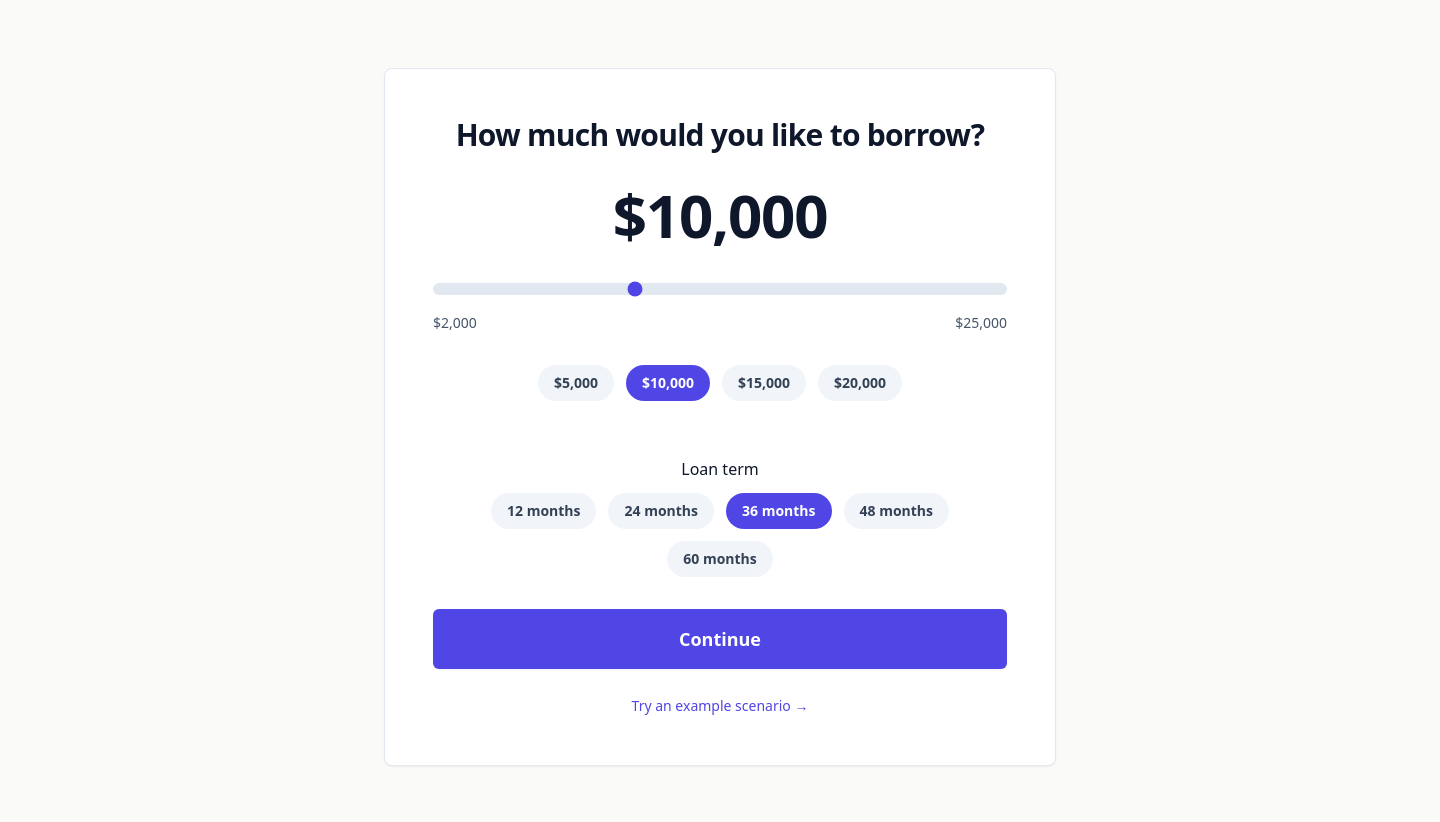
it: LoanWizard › State Management › preserves loanRequest state across steps
Set loan amount to $15,000 and term to 48 months
Set the slider to "15000": (756, 289) [433,283,1007,295]
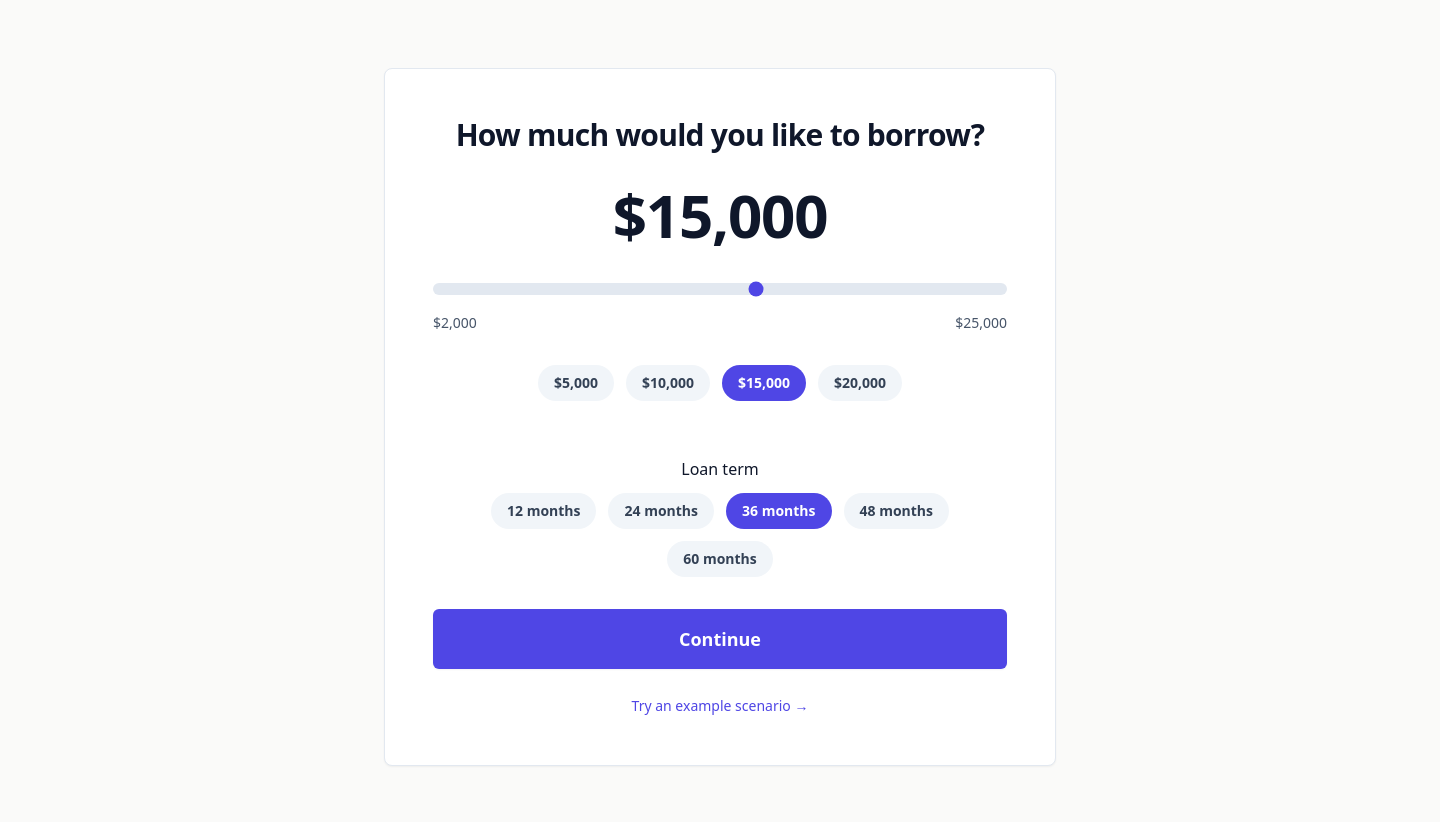
Click the button "48 months": click(896, 511) [844,493,949,529]
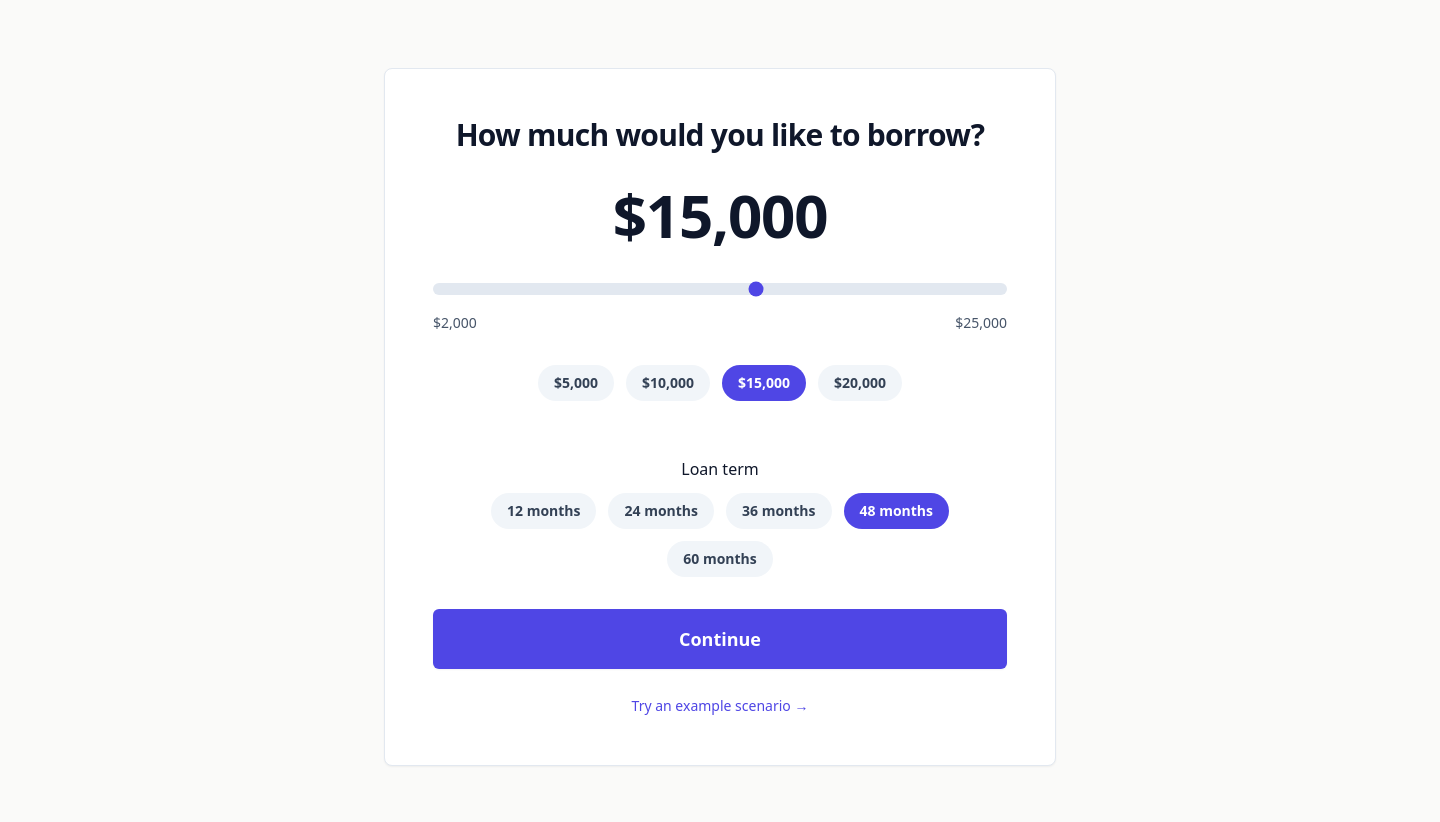
Click the button "Continue": click(720, 639) [433,609,1007,669]
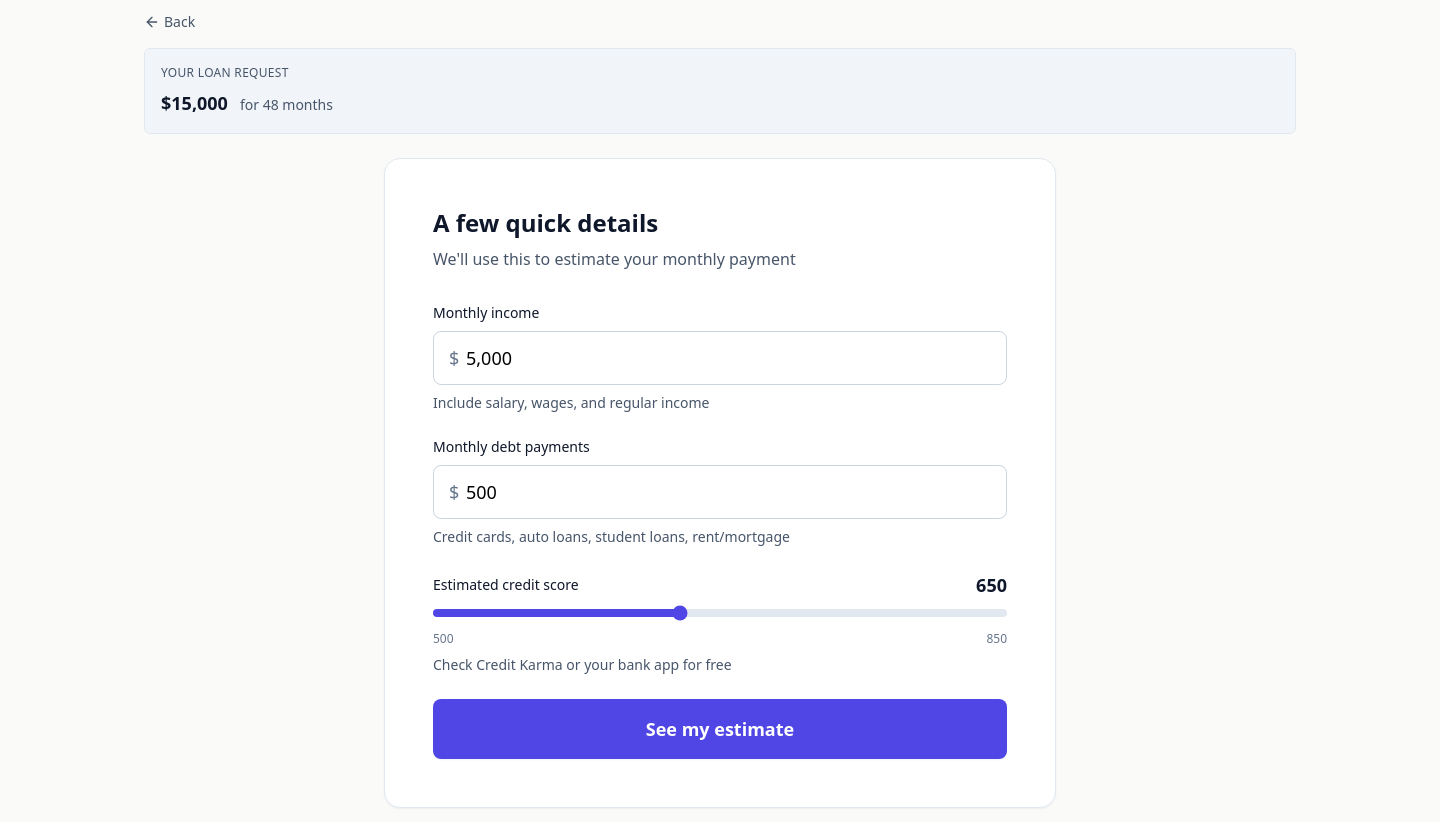
Expected: the text "$15,000" is shown, [161,89,228,117]
Go to estimate step
Click the button "See my estimate": click(720, 729) [433,699,1007,759]
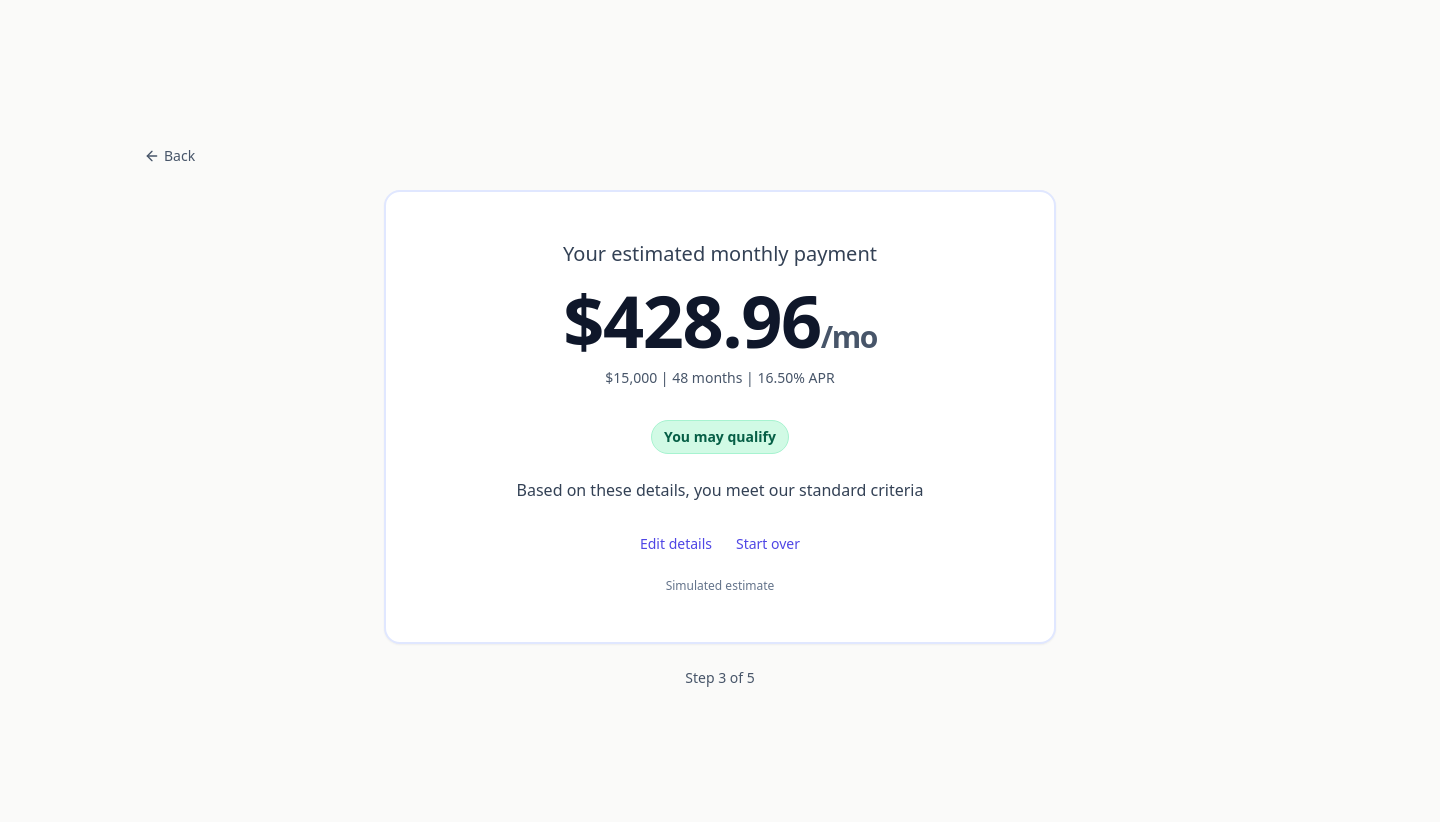
Now the text "$15,000 | 48 months | 16.50% APR" is shown, box [605,368,835,387]
